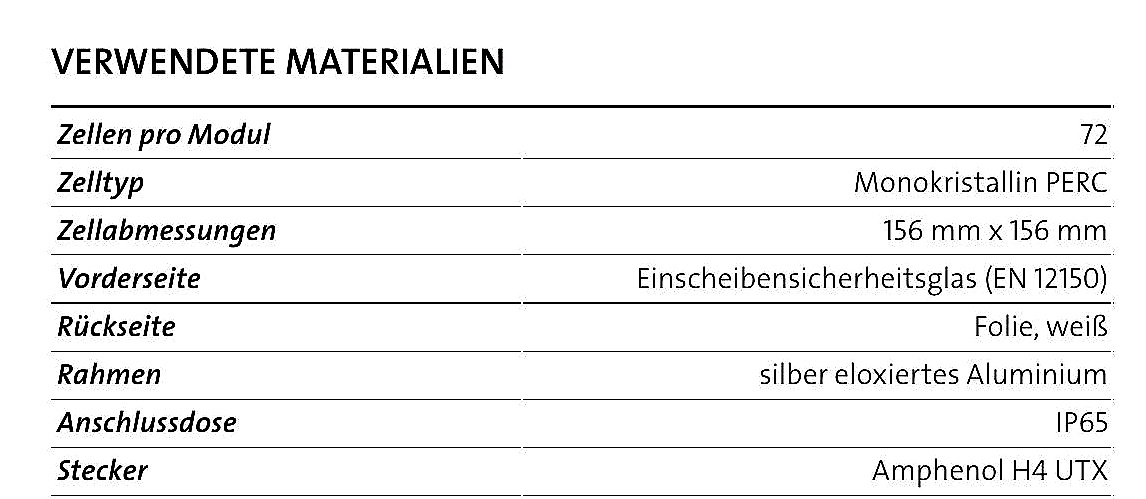table: (28, 99, 1128, 499)
table column: (526, 103, 1120, 489), (41, 103, 524, 497)
table name: (29, 39, 535, 87)
table row: (38, 107, 1121, 159), (37, 159, 1120, 211), (33, 353, 1122, 401), (34, 255, 1122, 302), (33, 304, 1122, 349), (32, 402, 1121, 446), (33, 451, 1121, 493), (34, 211, 1121, 253)
table row header: (40, 104, 525, 495)
